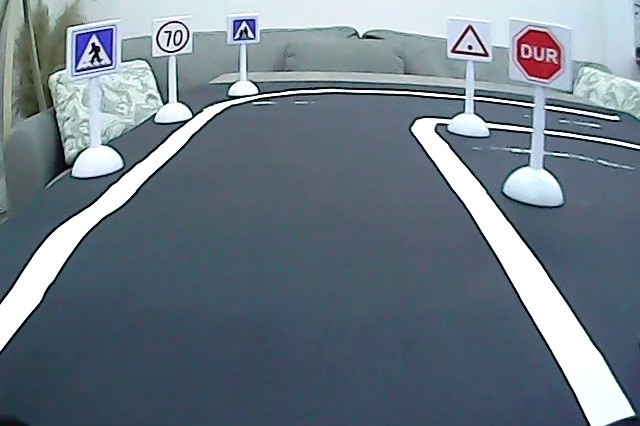green light: (449, 22, 492, 60)
pedestrian crossing: (69, 24, 119, 74)
school crossing: (230, 16, 257, 44)
speed limit 70: (154, 18, 192, 56)
stop sign: (510, 21, 567, 83)
